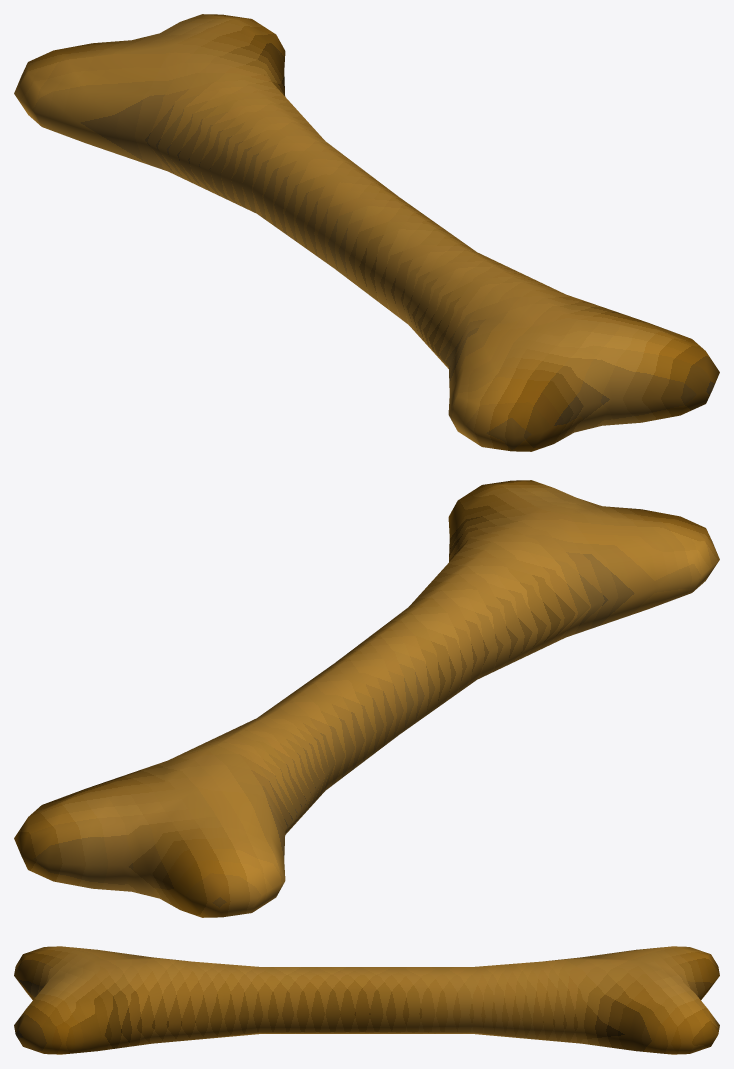
The model's file is WorldItem_HCDogBiscuit.fbx.
The picture shows the model from 3 angles, top to bottom: view 1: azimuth 30°, elevation 25°; view 2: azimuth 150°, elevation 25°; view 3: azimuth 270°, elevation 25°; orthographic projection. The views are drawn at different scales.
Visible parts, largest first — view 1: DogBiscuit; view 2: DogBiscuit; view 3: DogBiscuit.
Part boxes in pixels (box(x1,y1,x2,y2)): DogBiscuit: box(14, 14, 719, 451); DogBiscuit: box(14, 480, 719, 917); DogBiscuit: box(14, 946, 719, 1054).
Bounding box in the file's own units: 0.0312 × 0.0122 × 0.107.
